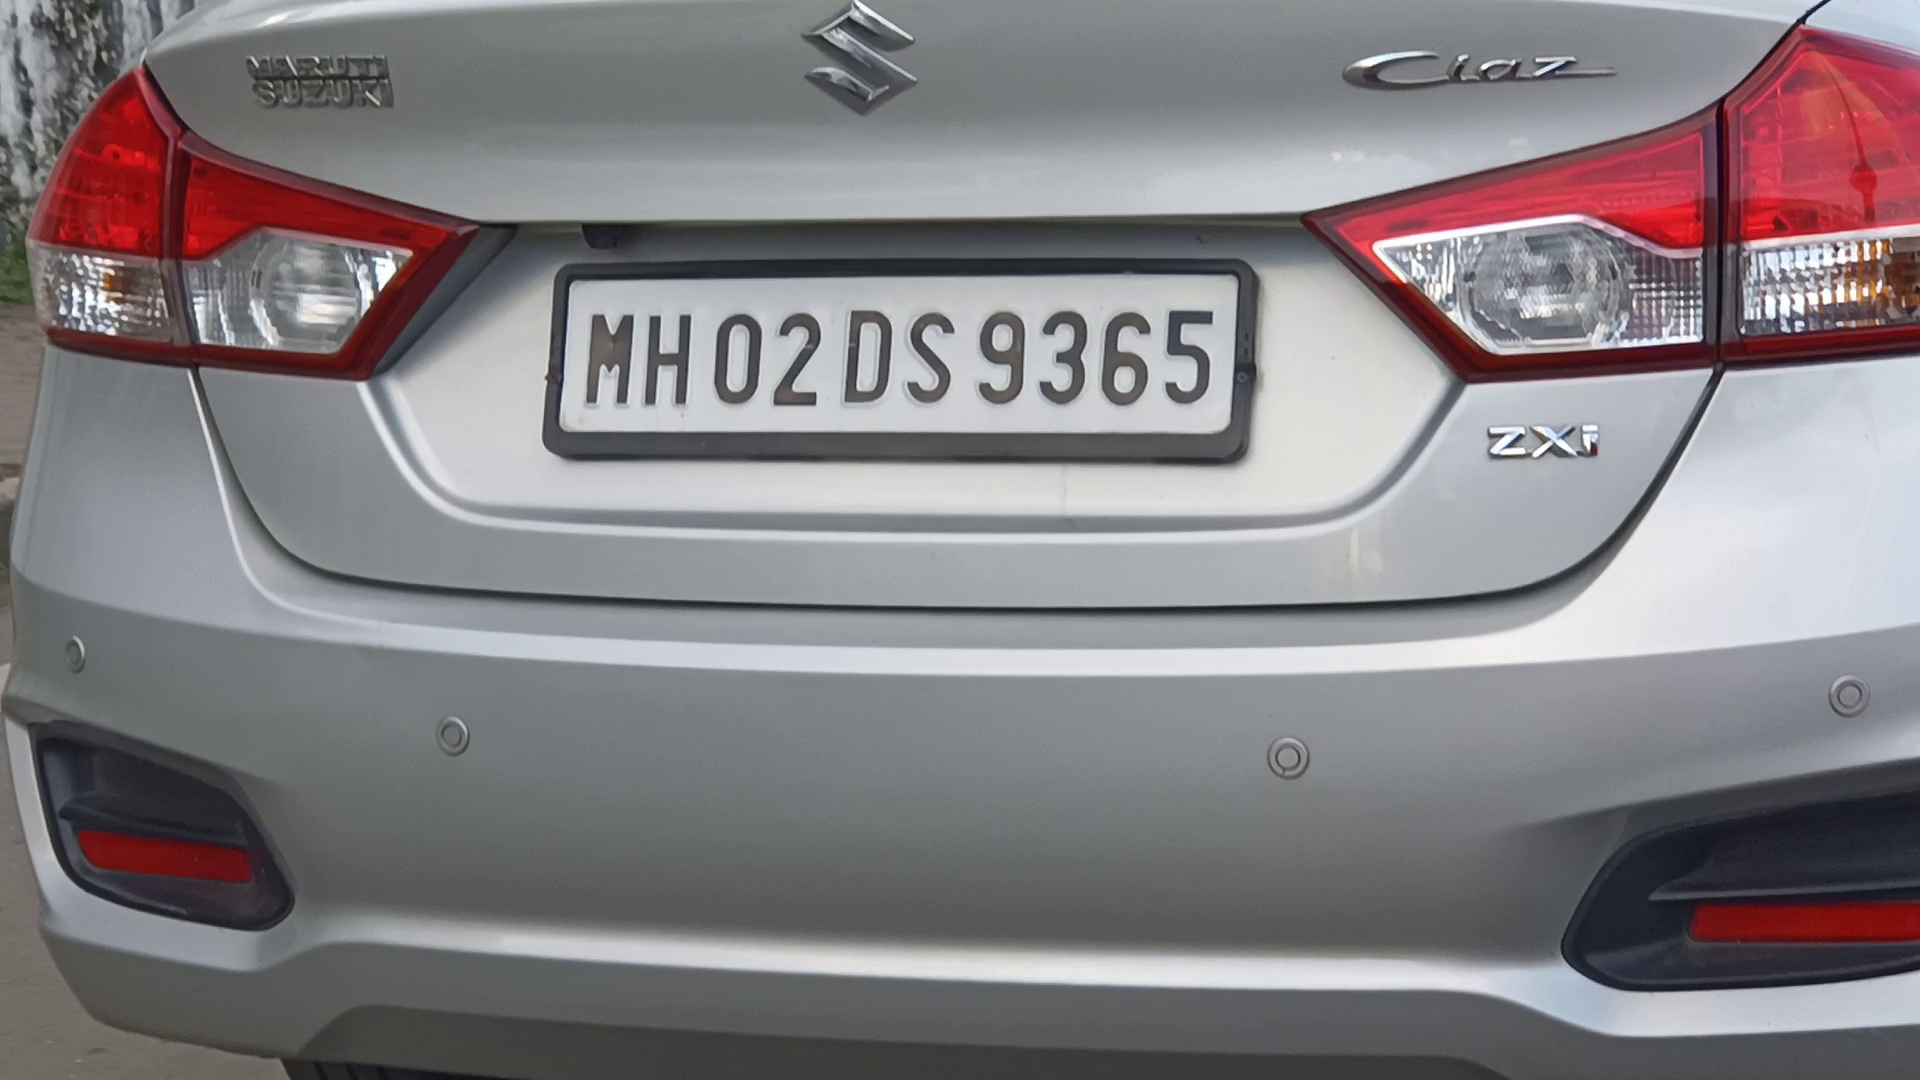MH02DS9365: (557, 278, 1238, 437)
